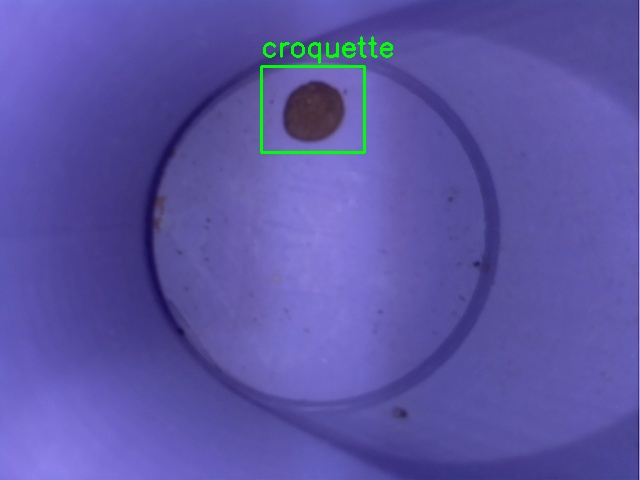croquette: (261, 66, 364, 152)
